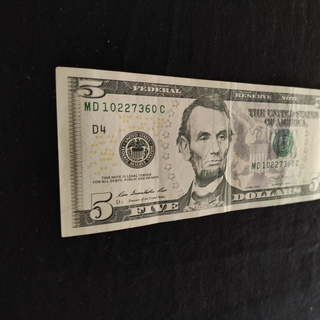5USDFront: (54, 66, 320, 237)
